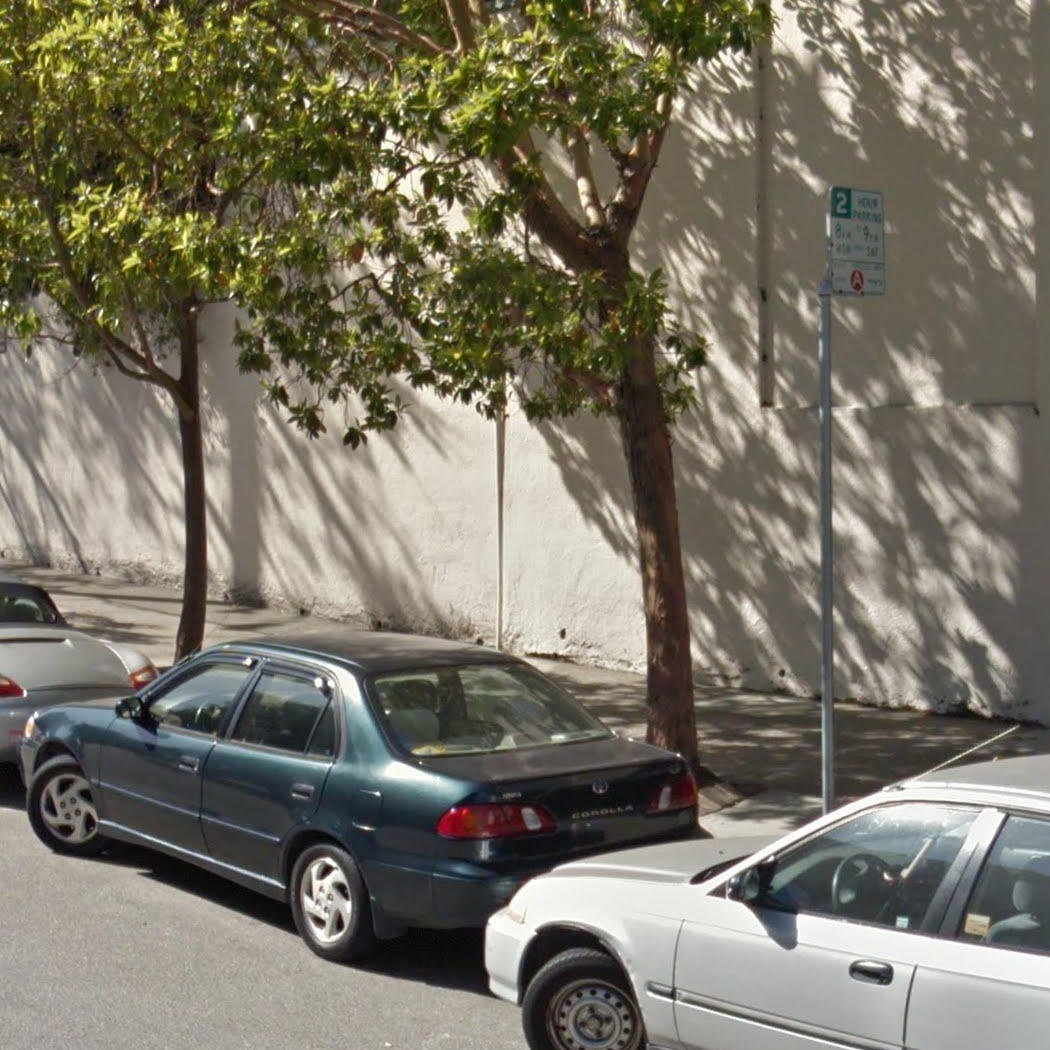2 Hour Parking: (827, 185, 886, 297)
